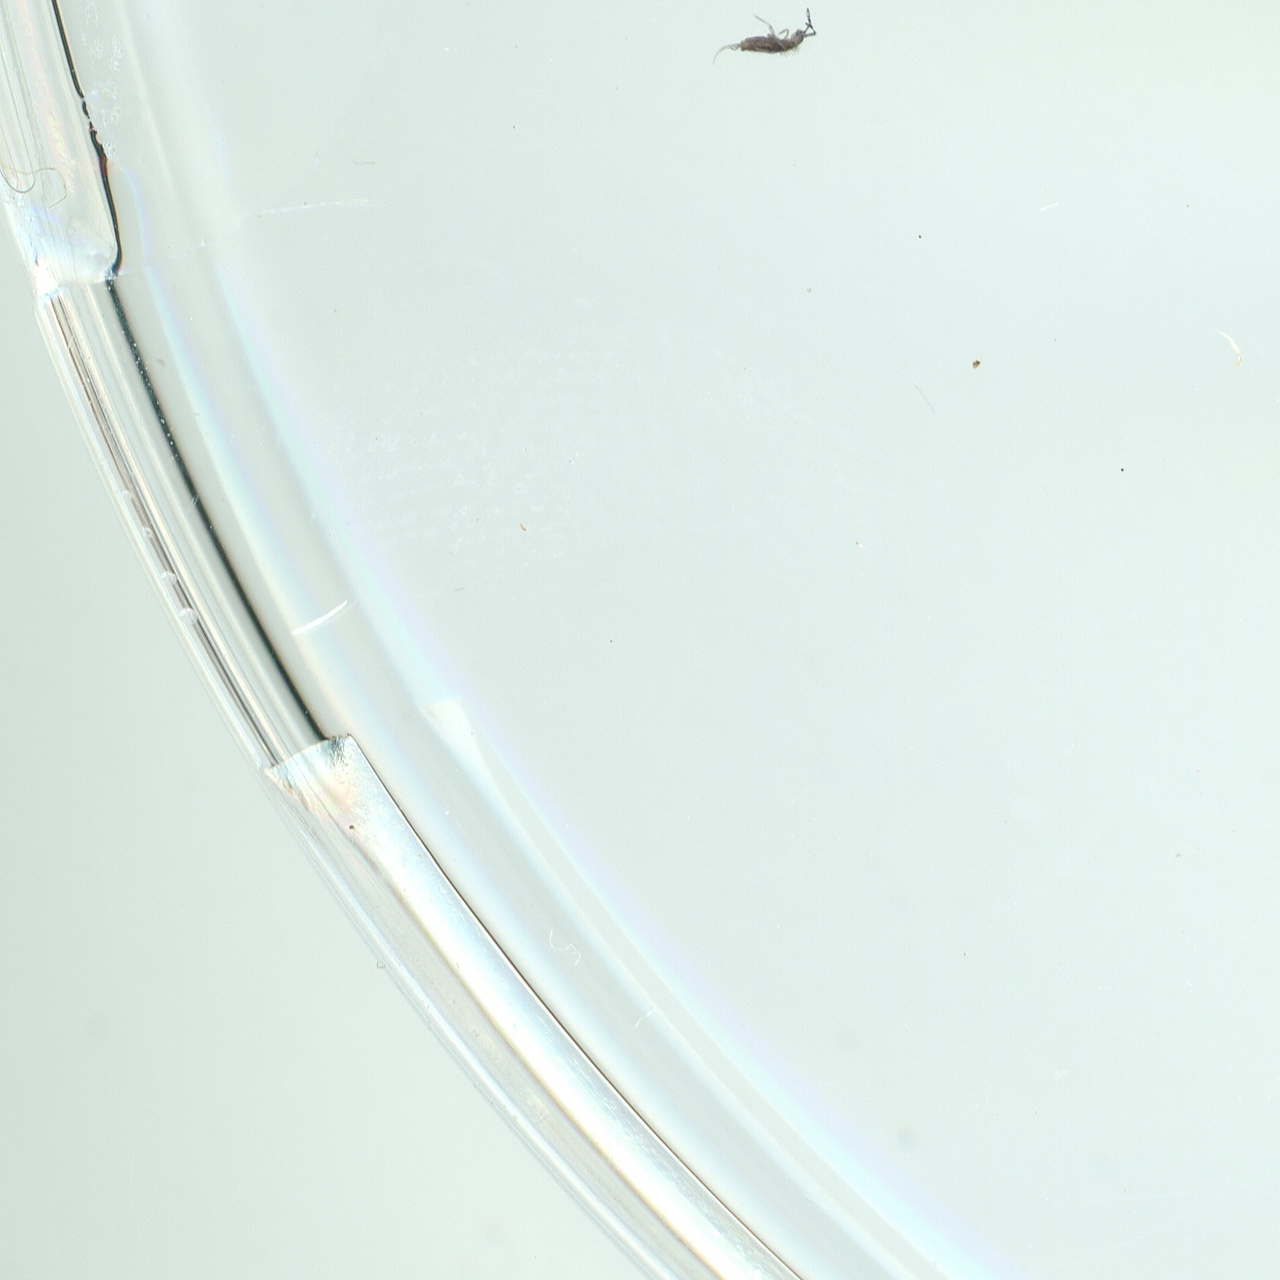arthropod: (706, 5, 821, 68)
